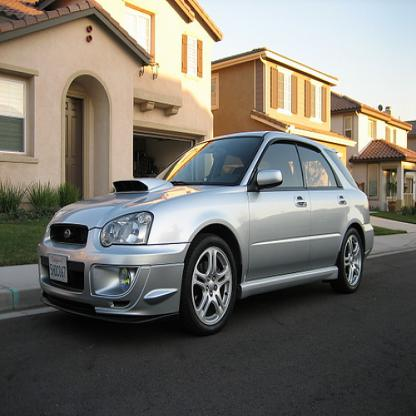car: (35, 129, 373, 335)
